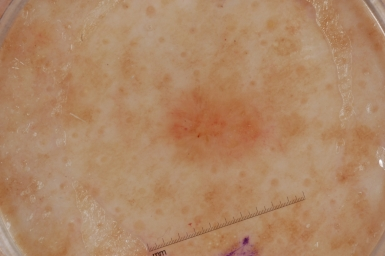seborrheic keratosis: (146, 74, 288, 178)
